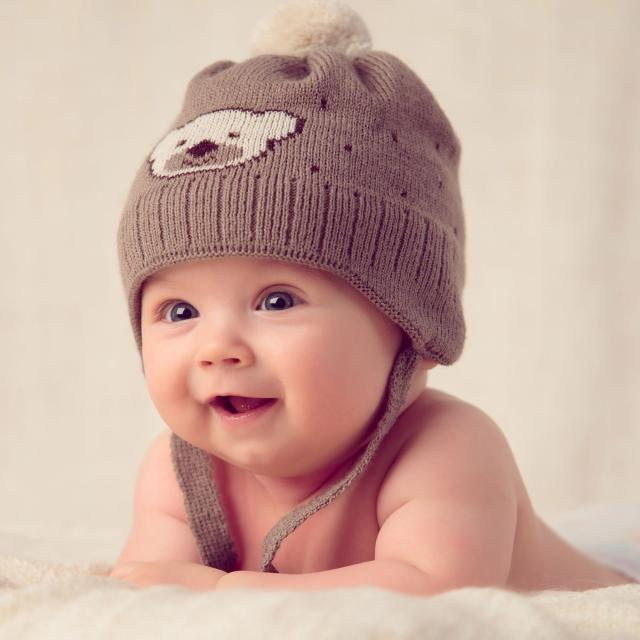non-dog: (111, 1, 634, 597)
